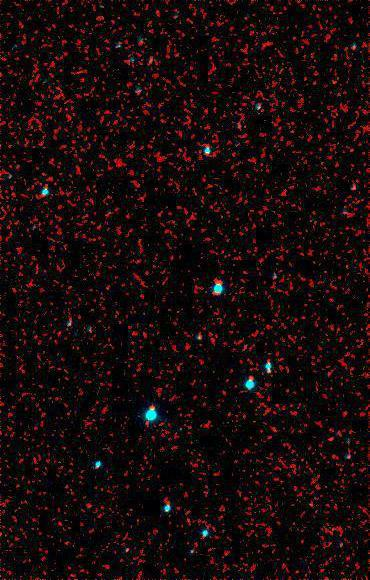star: (319, 427, 349, 457)
